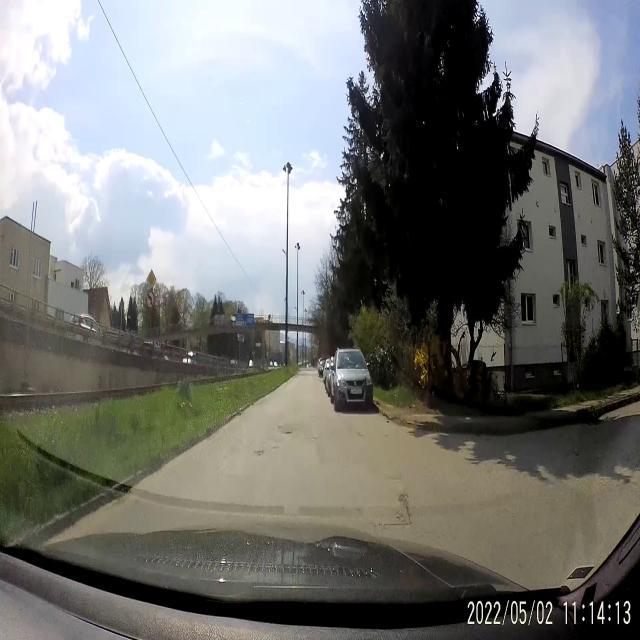Pothole: (392, 488, 417, 532), (276, 422, 296, 436), (252, 446, 268, 462)
